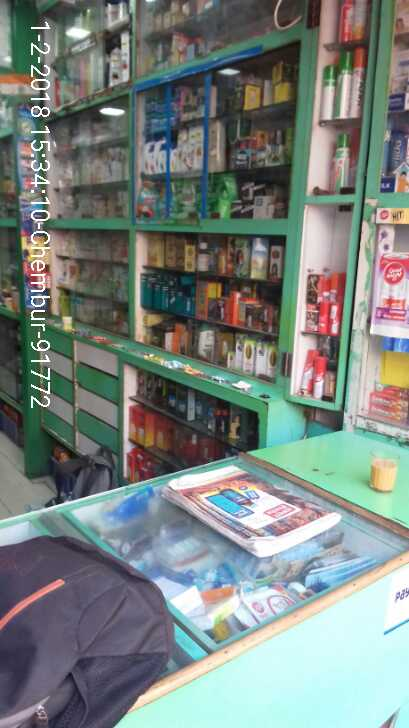vicks: (139, 101, 176, 129)
